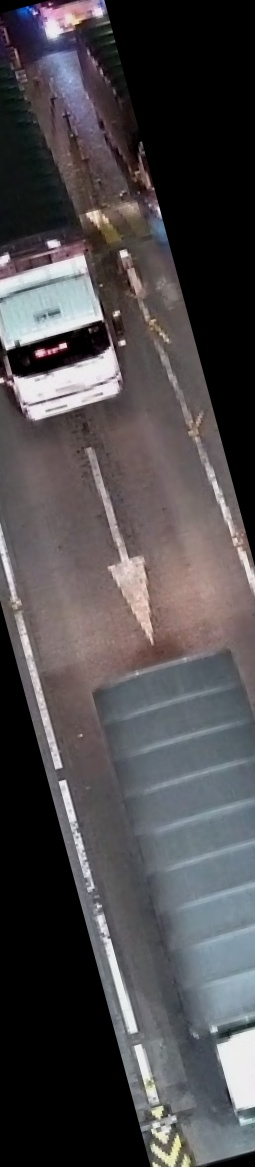truck: (85, 633, 255, 1133), (0, 47, 134, 428), (0, 18, 13, 90)
